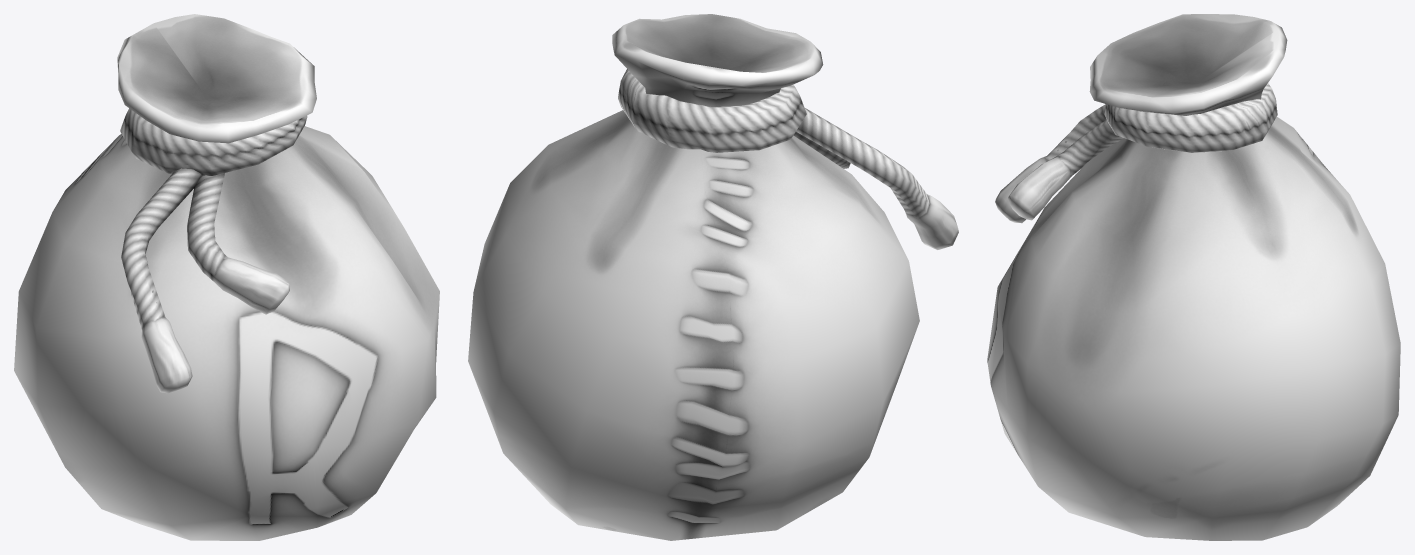
File: 143_a_rune_bag_lp_.fbx
3 views of the same model, side by side, from view 1: azimuth 30°, elevation 25°; view 2: azimuth 150°, elevation 25°; view 3: azimuth 270°, elevation 25° (orthographic). The views are drawn at different scales.
Parts seen in each view (by area): view 1: 143_a_rune_bag; view 2: 143_a_rune_bag; view 3: 143_a_rune_bag.
Part boxes in pixels (x1,y1,x2,y2): 143_a_rune_bag: (14, 14, 439, 540); 143_a_rune_bag: (468, 14, 958, 540); 143_a_rune_bag: (987, 14, 1400, 540).
Bounding box in the file's own units: 19.45 × 22.85 × 18.69.
